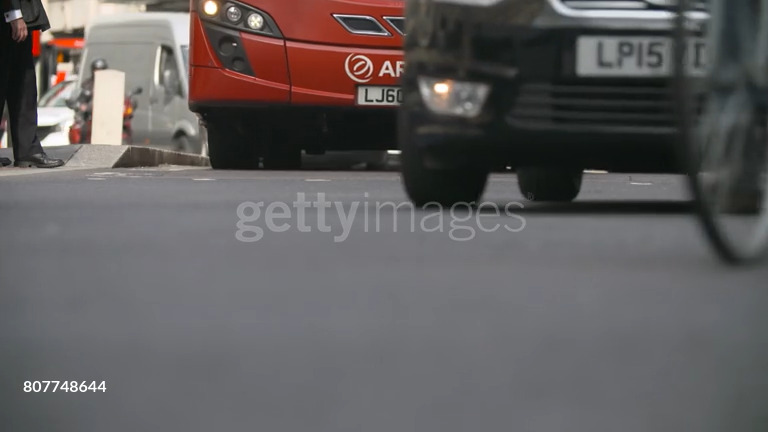car number: (575, 36, 678, 77), (355, 83, 403, 103)
